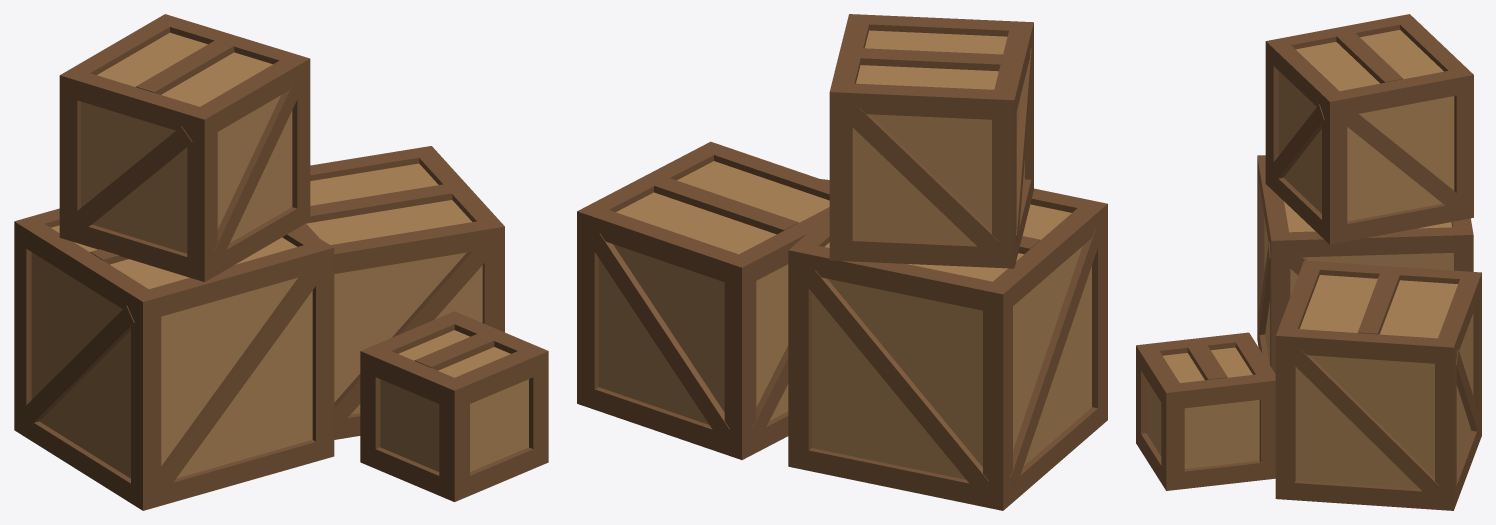
File: crate_stack.glb
3 views of the same model, side by side, from view 1: azimuth 30°, elevation 25°; view 2: azimuth 150°, elevation 25°; view 3: azimuth 270°, elevation 25° (orthographic). The views are drawn at different scales.
Parts seen in each view (by area): view 1: crate_stack; view 2: crate_stack; view 3: crate_stack.
Part boxes in pixels (left/top/right/bottom): crate_stack: left=14, top=14, right=548, bottom=510; crate_stack: left=577, top=14, right=1107, bottom=510; crate_stack: left=1136, top=14, right=1481, bottom=510.
Size of the model in its own units: 1.87 by 1.6 by 1.54.
